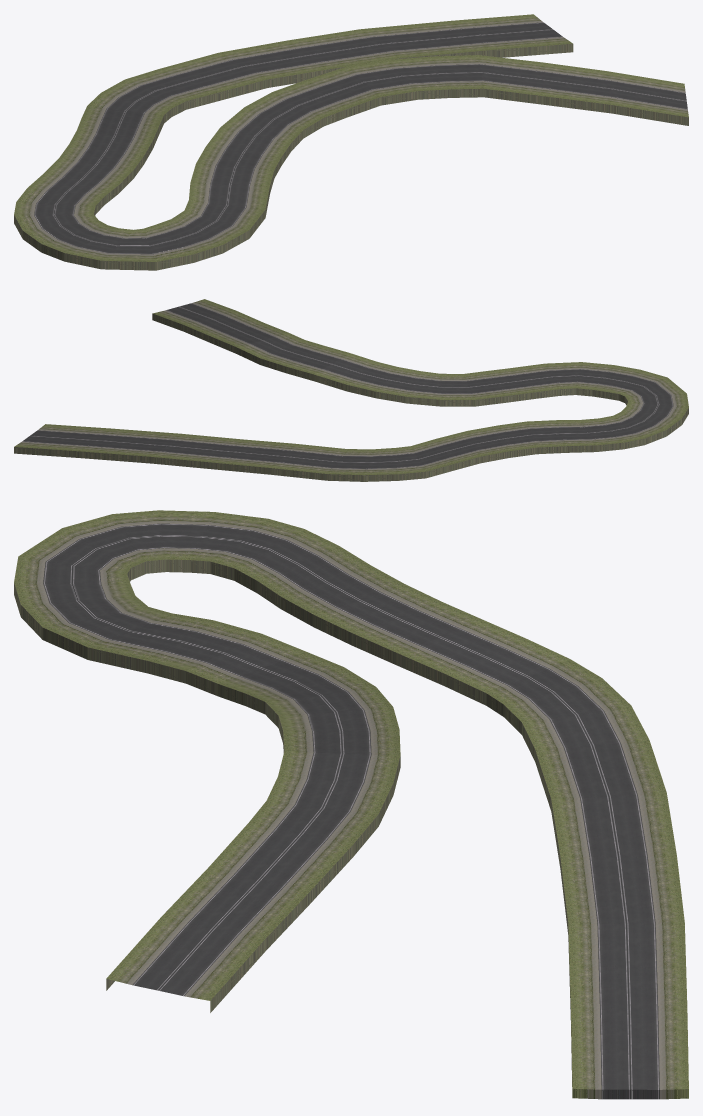
The model's file is sfshill05.obj.
3 renders of one model, top to bottom at view 1: azimuth 30°, elevation 25°; view 2: azimuth 150°, elevation 25°; view 3: azimuth 270°, elevation 25°, orthographic. The views are drawn at different scales.
Parts seen in each view (by area): view 1: sfshill05; view 2: sfshill05; view 3: sfshill05.
Part boxes in pixels (box(x1,y1,x2,y2)): sfshill05: box(14, 14, 688, 270); sfshill05: box(14, 299, 688, 481); sfshill05: box(14, 510, 688, 1099).
Bounding box in the file's own units: 195 × 27.21 × 116.
Materials: 2 (2 with a texture image).
